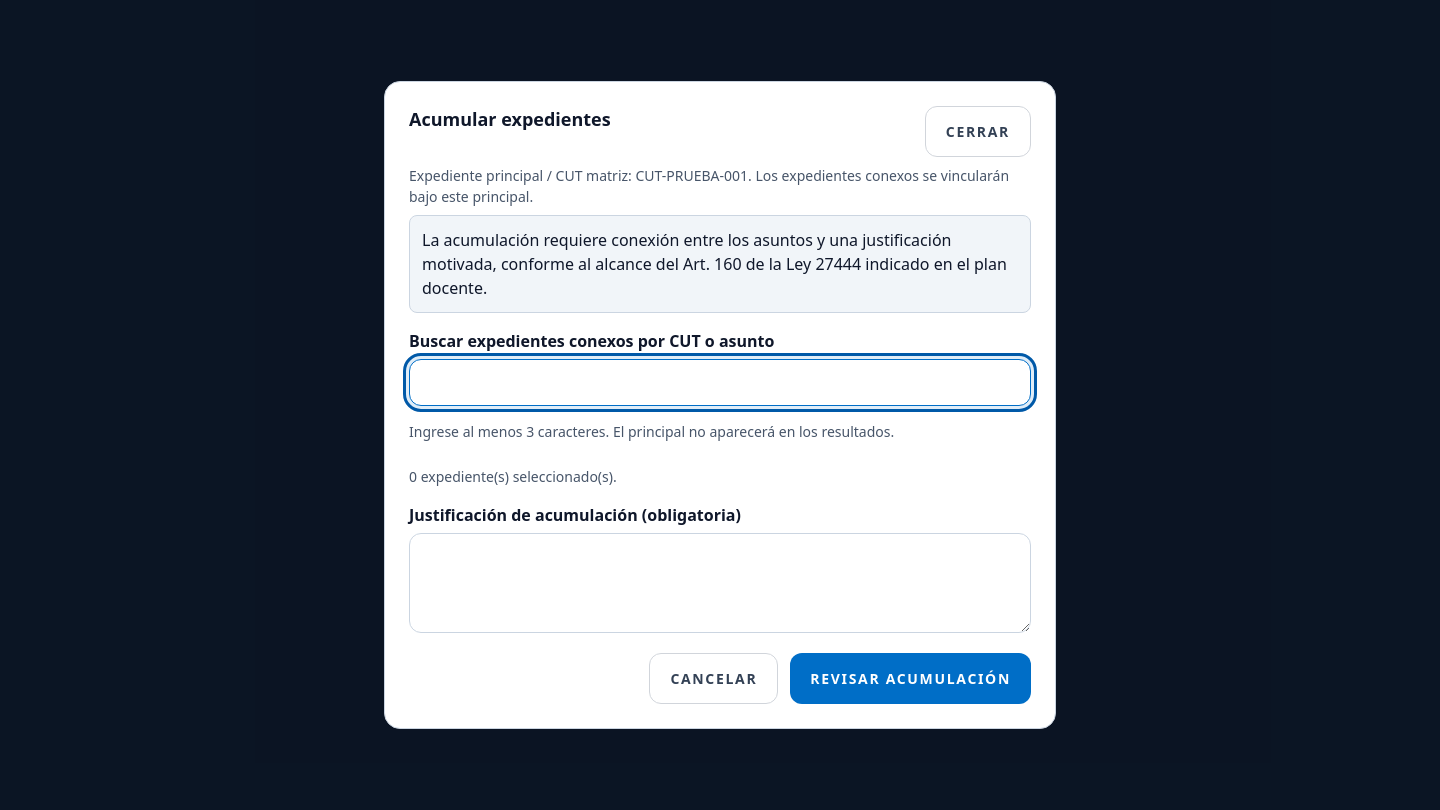
Test: AcumulacionModal › cancela búsquedas antiguas y controla vacíos y errores sin revelar detalles
Type "ant" into the search field at [720, 383], box 409,359 -> 1031,406
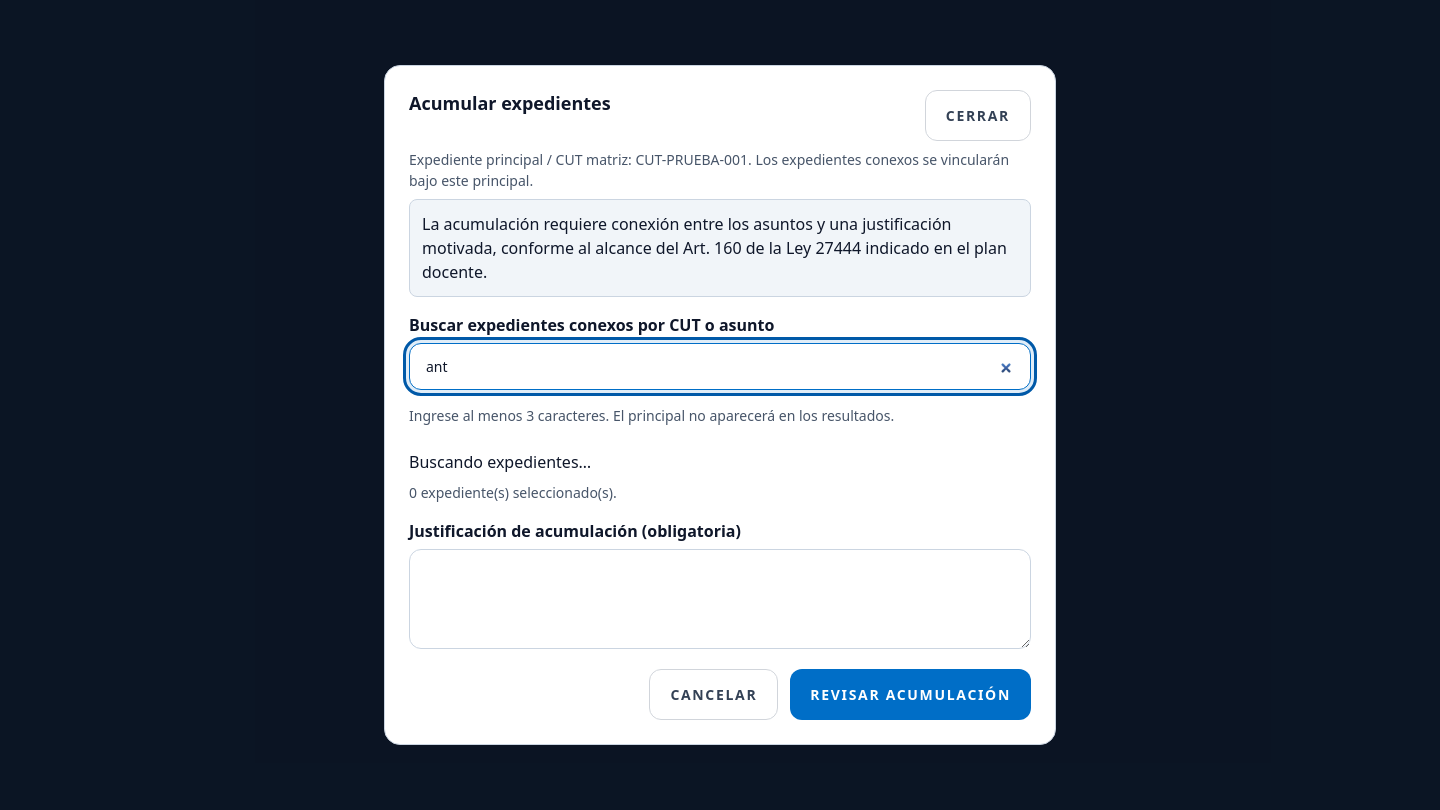
Clear the search field at [720, 367], box 409,343 -> 1031,390
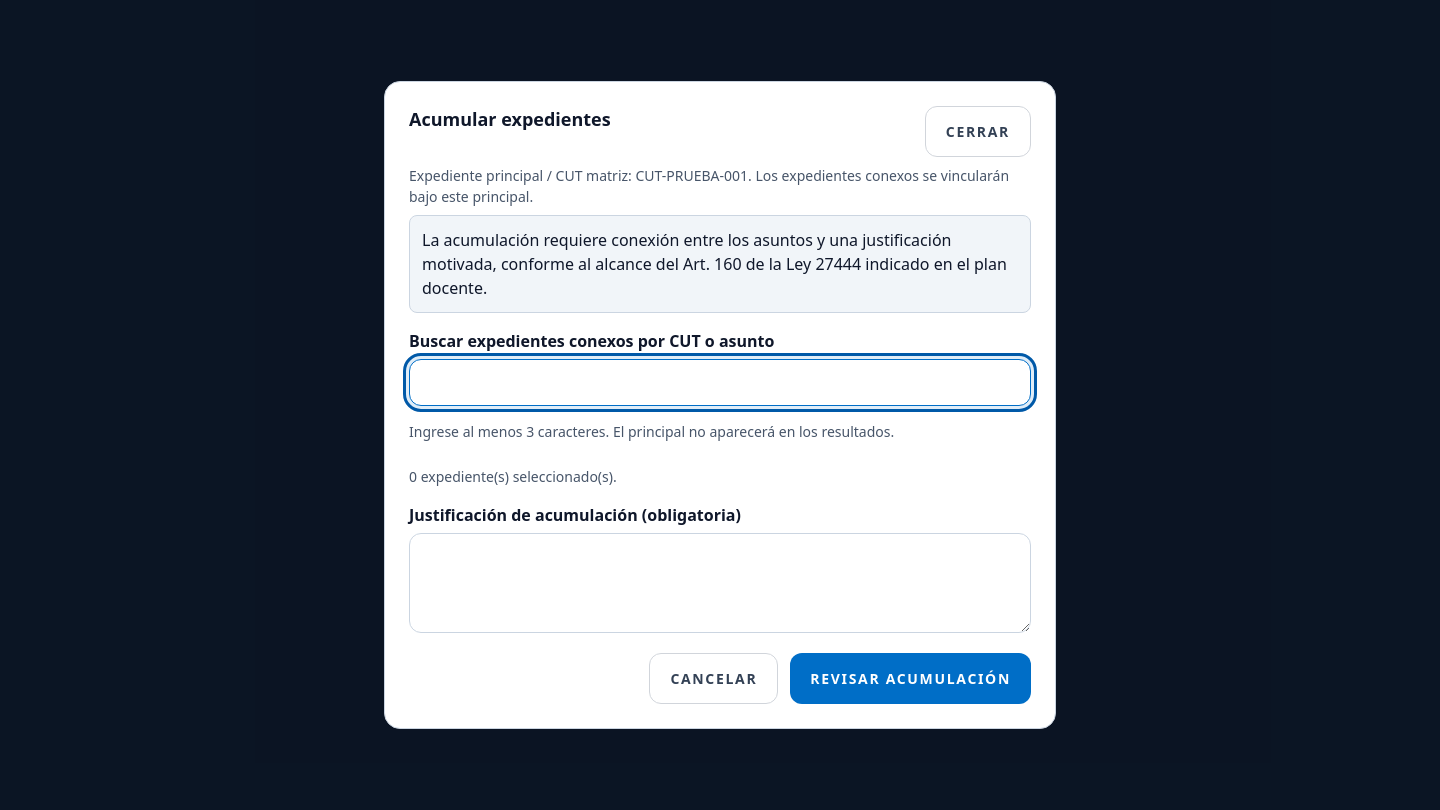
Type "nue" into the search field at [720, 383], box 409,359 -> 1031,406
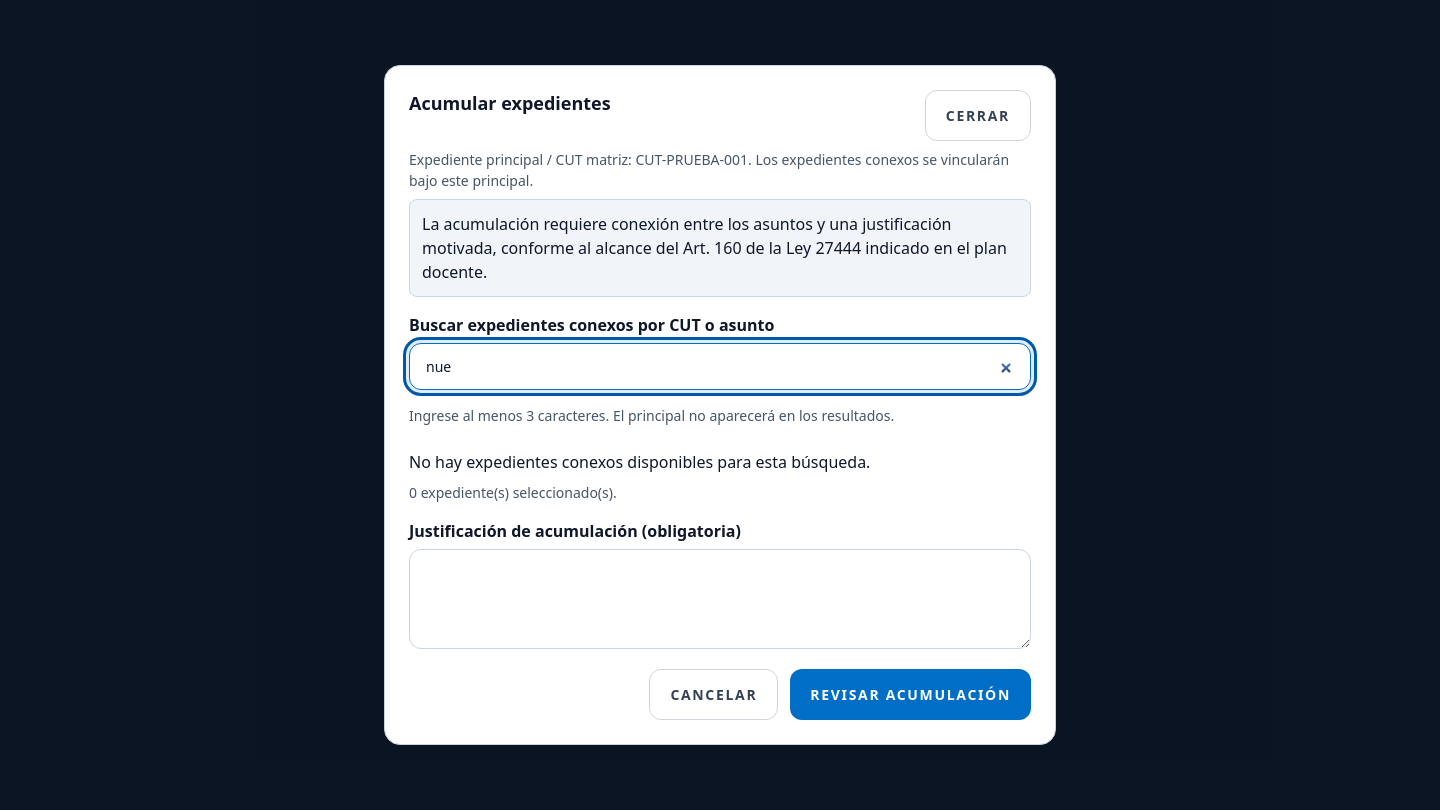
Check: the text "No hay expedientes conexos disponibles para esta búsqueda." is shown, box 409,451 -> 870,473
Clear the search field at [720, 367], box 409,343 -> 1031,390
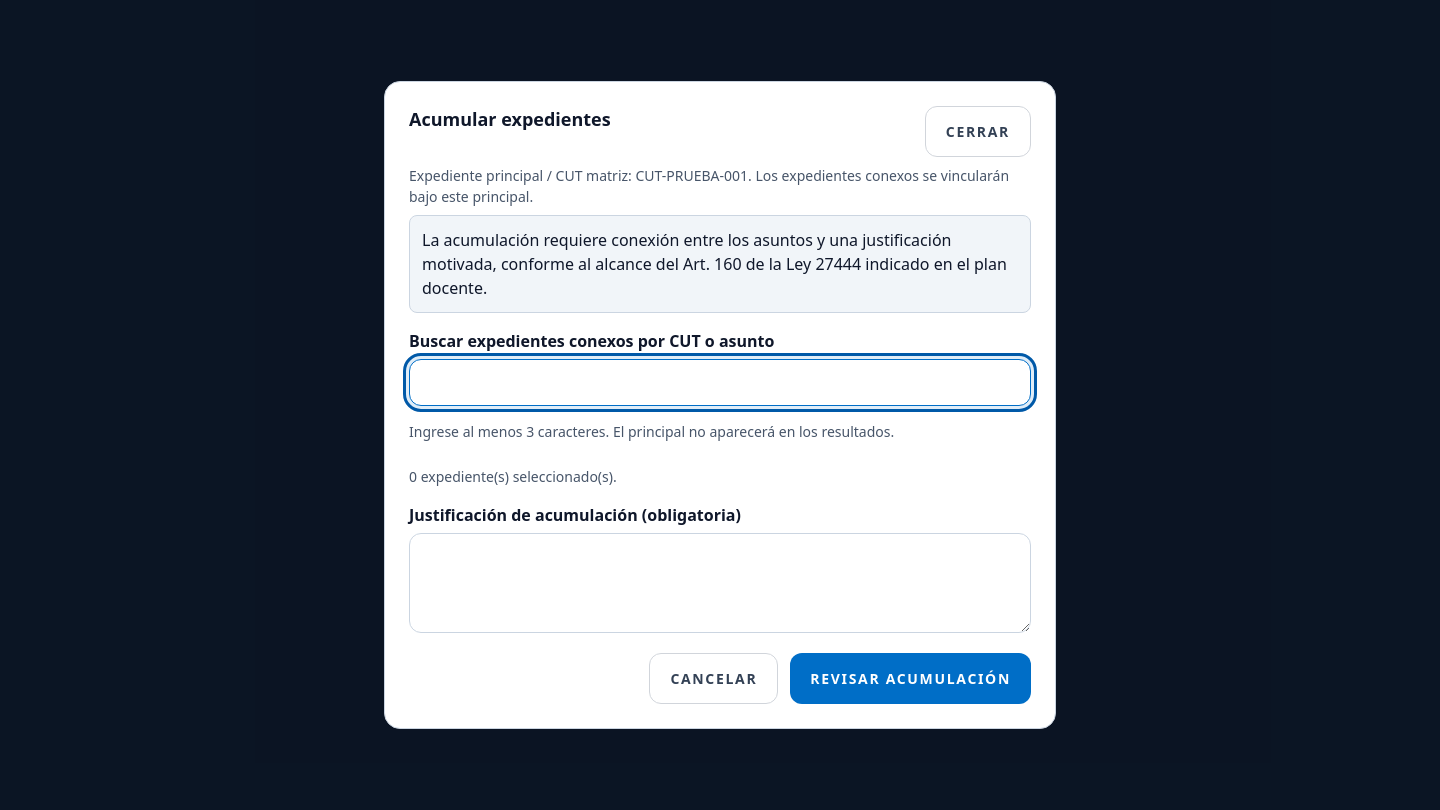
Type "err" into the search field at [720, 383], box 409,359 -> 1031,406
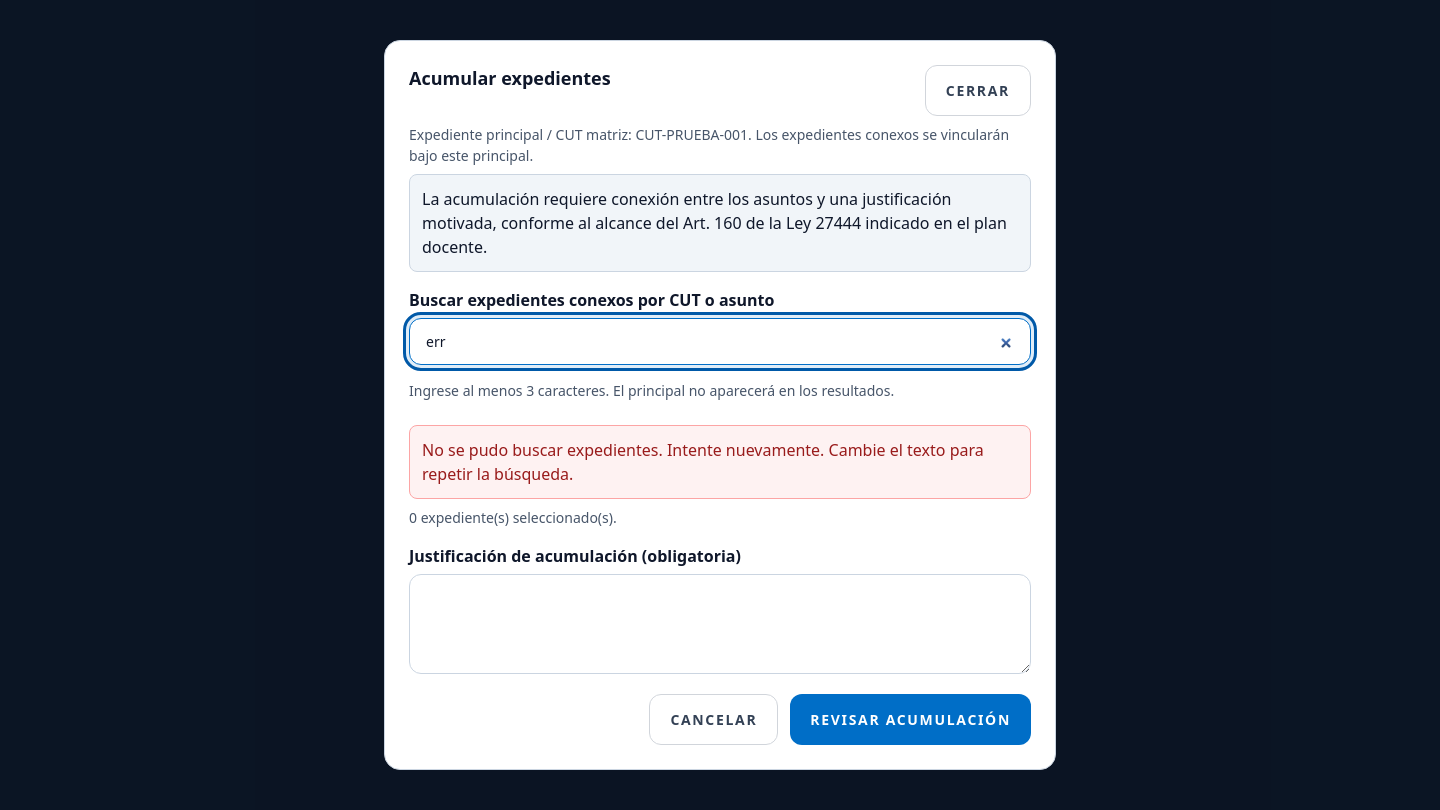
Check: the 1st message does not show "DETALLE_INTERNO", box 409,425 -> 1031,499
Check: the 1st message shows "No se pudo buscar expedientes", box 422,439 -> 824,461
